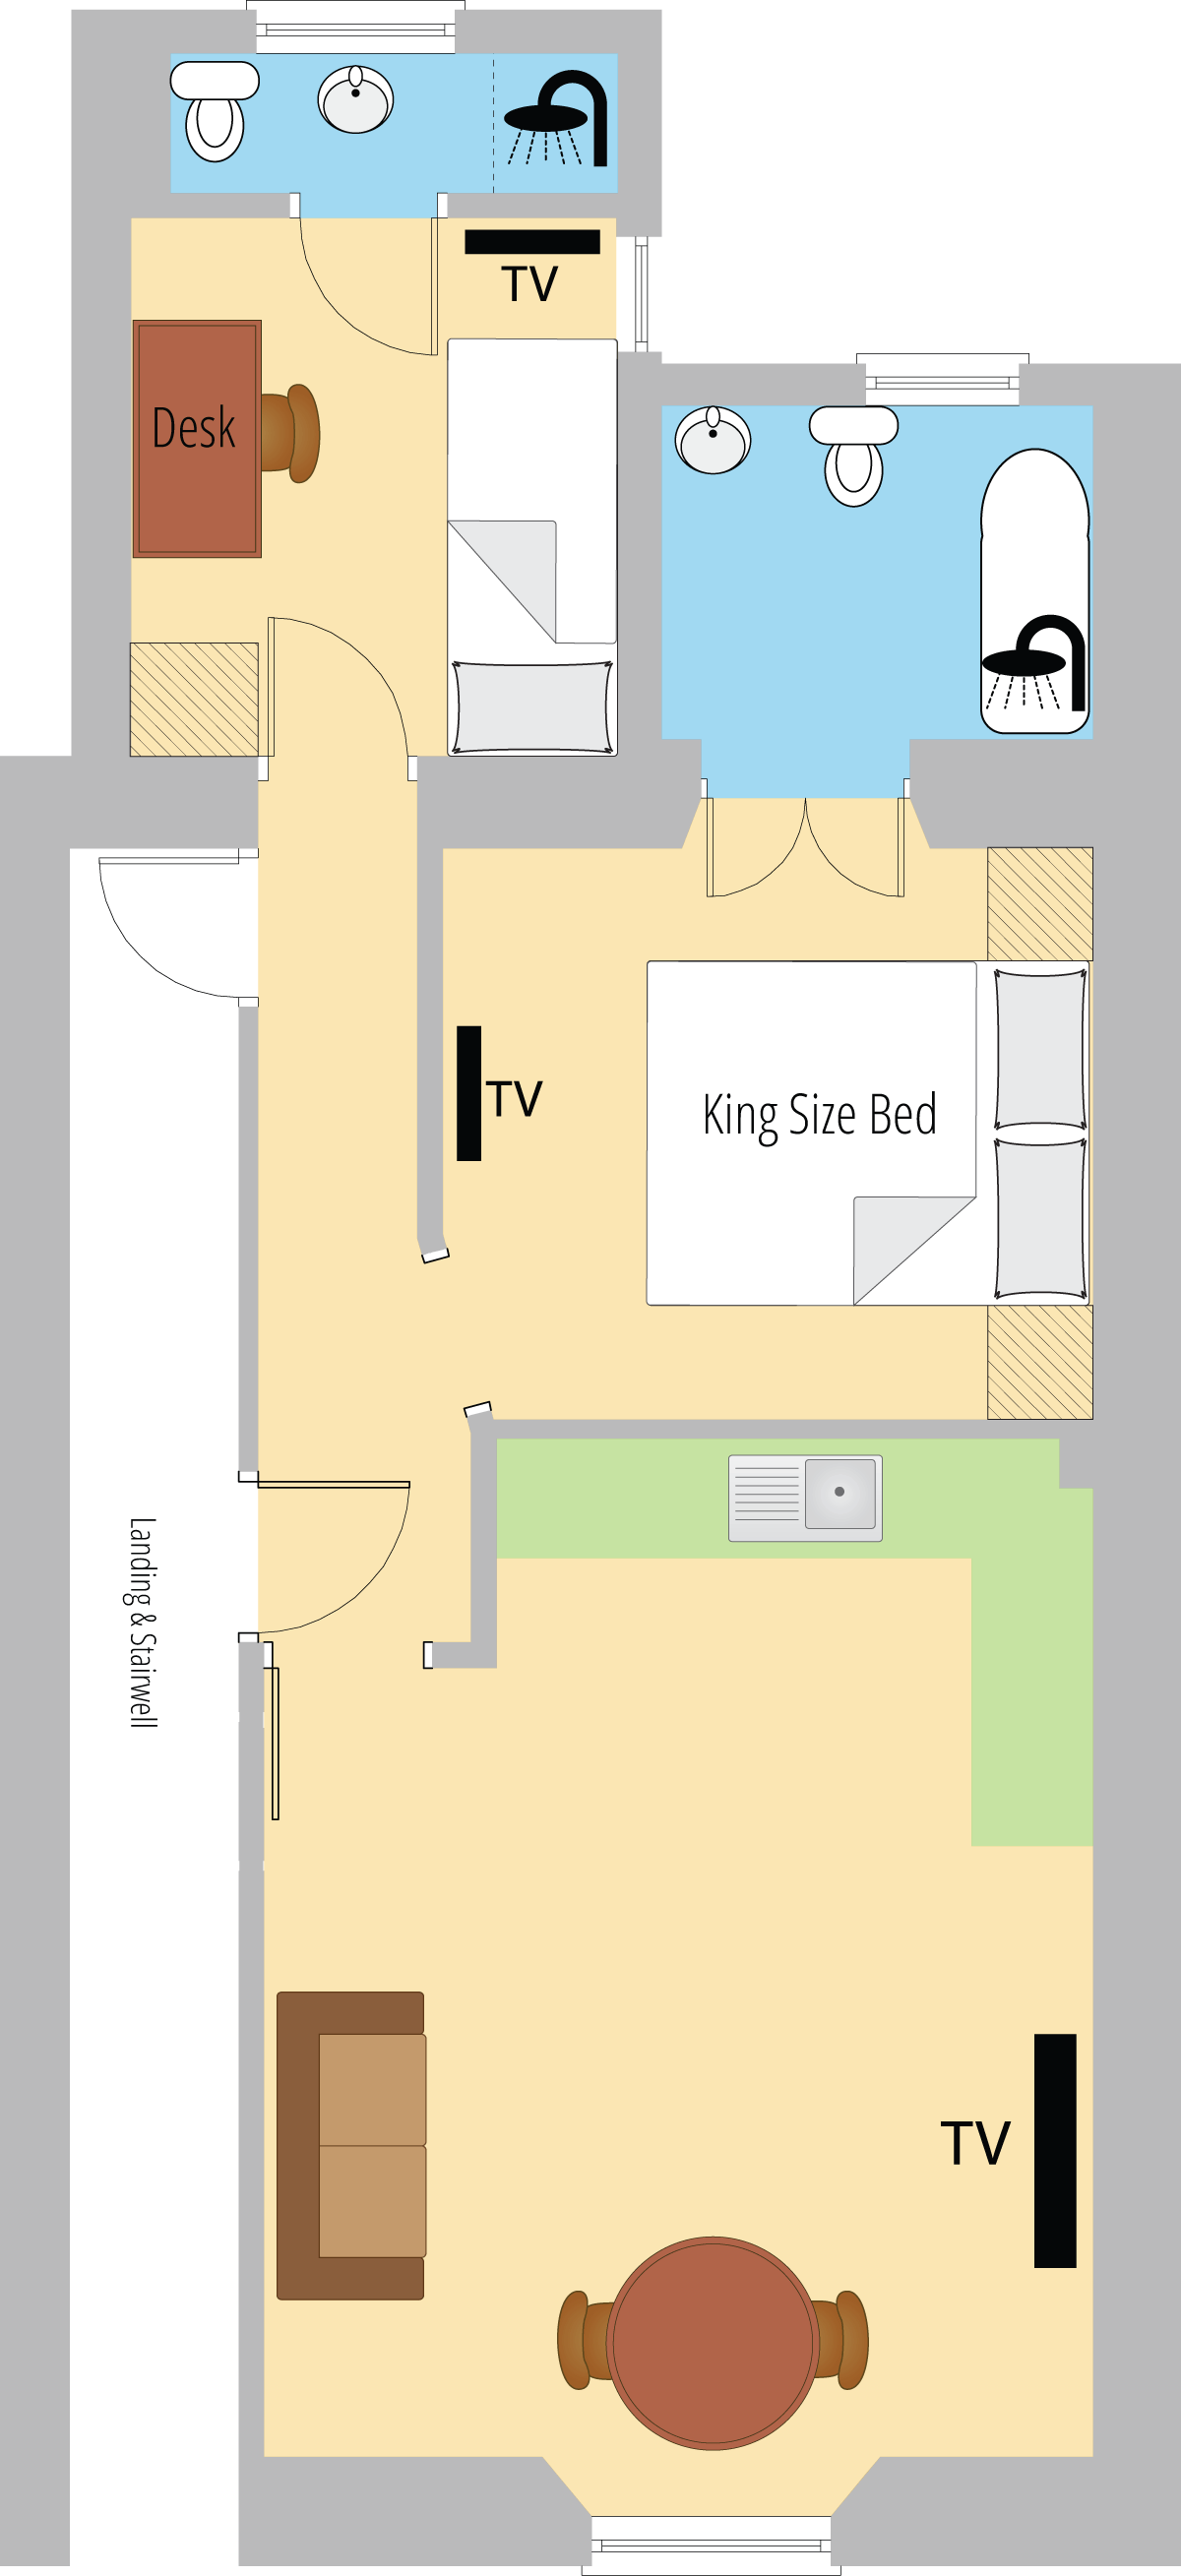door: (264, 1469, 419, 1638), (700, 803, 912, 918), (92, 851, 232, 1014), (264, 608, 411, 752), (294, 220, 440, 361)
